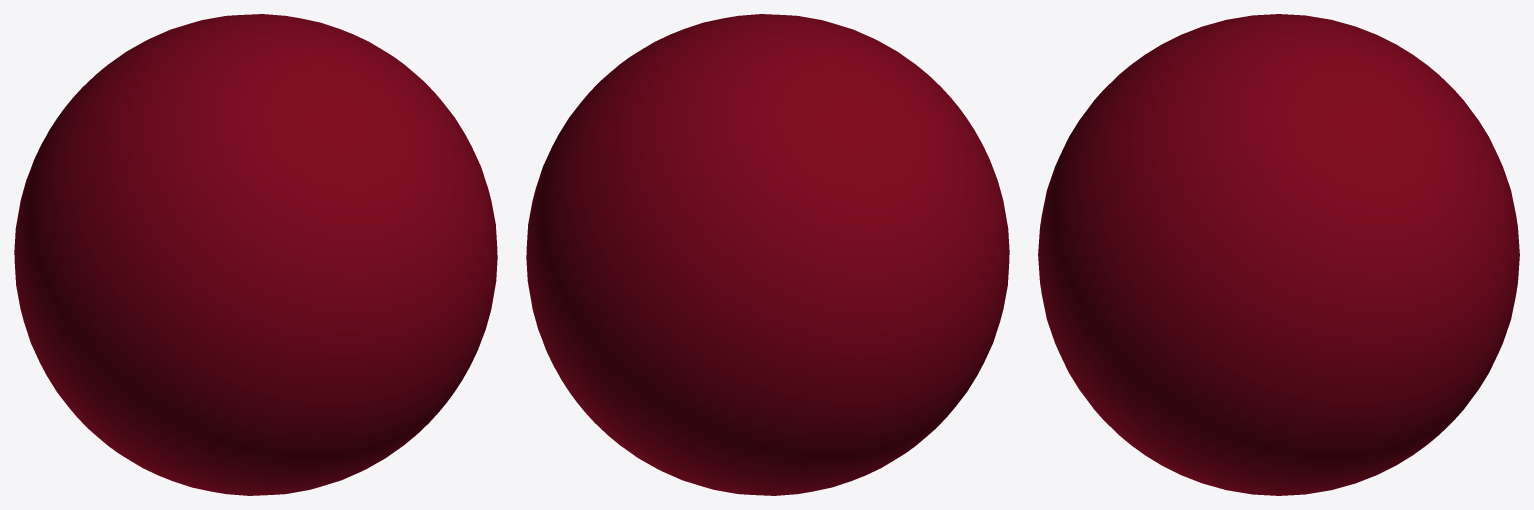
File: roter_ball_glb.glb
3 views of the same model, side by side, from view 1: azimuth 30°, elevation 25°; view 2: azimuth 150°, elevation 25°; view 3: azimuth 270°, elevation 25° (orthographic).
Visible parts, largest first — view 1: Object_4; view 2: Object_4; view 3: Object_4.
Boxes of the visible parts, x1=… form: Object_4: x1=14, y1=14, x2=497, y2=495; Object_4: x1=526, y1=14, x2=1009, y2=495; Object_4: x1=1038, y1=14, x2=1519, y2=495.
Bounding box in the file's own units: 0.2563 × 0.2553 × 0.2553.
Materials: 1 (1 with a texture image).
